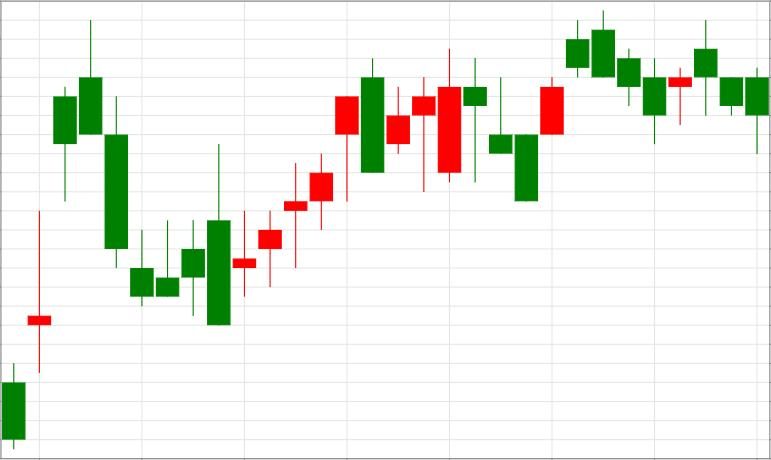hanging_man_fall: (233, 97, 359, 297)
